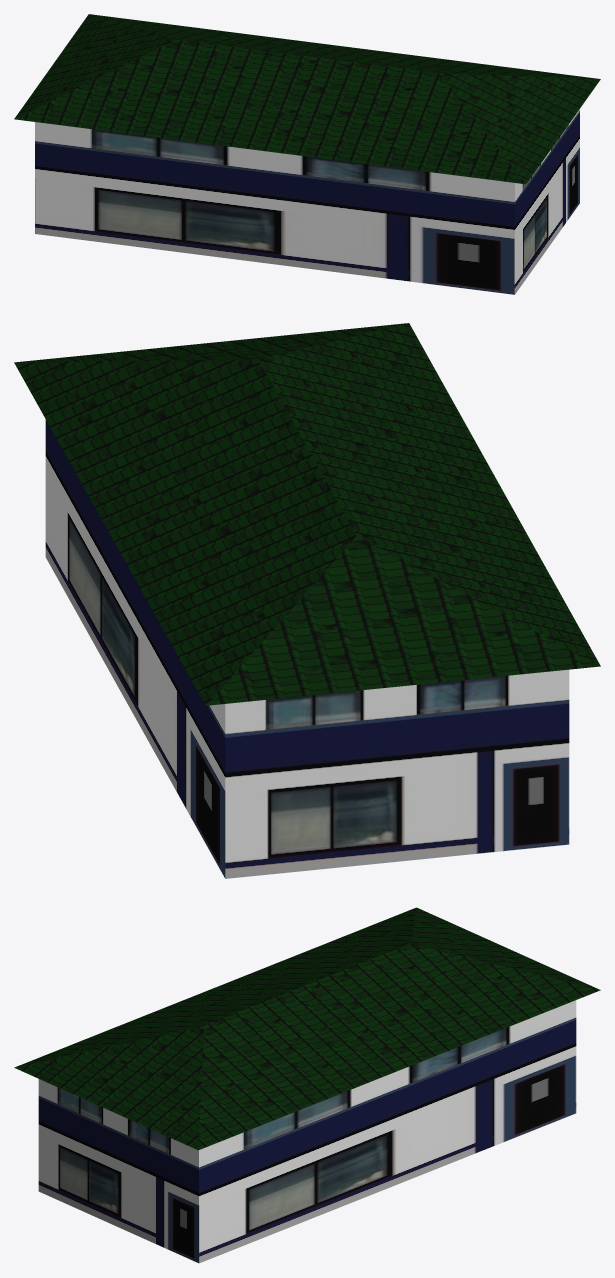
3 views of the same model, one above another, from view 1: azimuth 30°, elevation 25°; view 2: azimuth 150°, elevation 25°; view 3: azimuth 270°, elevation 25° (orthographic). The views are drawn at different scales.
Parts seen in each view (by area): view 1: CityEngineMaterial_2_m, CityEngineMaterial_13_m; view 2: CityEngineMaterial_13_m, CityEngineMaterial_2_m; view 3: CityEngineMaterial_13_m, CityEngineMaterial_2_m.
Boxes of the visible parts, x1,y1,x2,y2 form: CityEngineMaterial_2_m: (35, 109, 579, 294); CityEngineMaterial_13_m: (14, 14, 600, 184); CityEngineMaterial_13_m: (14, 323, 600, 705); CityEngineMaterial_2_m: (45, 419, 569, 878); CityEngineMaterial_13_m: (14, 907, 600, 1150); CityEngineMaterial_2_m: (38, 1000, 576, 1263).
Bounding box in the file's own units: 31.08 × 10.01 × 31.73.
